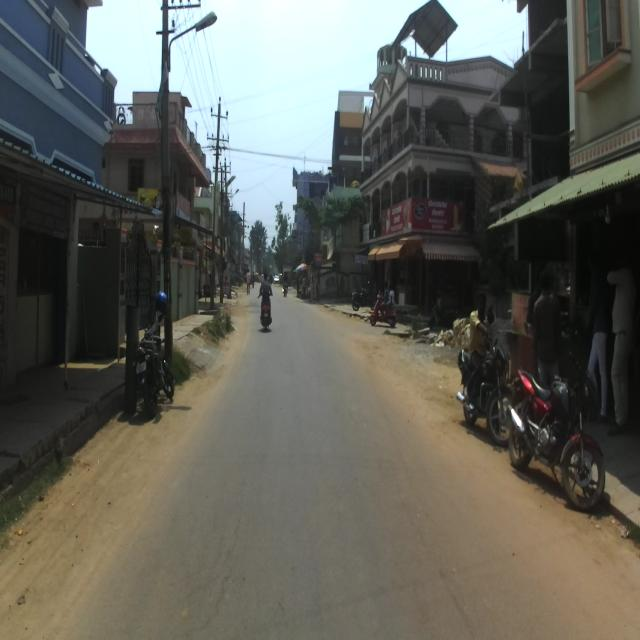electric pole ahead at: (151, 0, 192, 412)
motorcycle ahead at: (511, 360, 612, 522), (460, 289, 516, 439), (138, 289, 176, 418)
